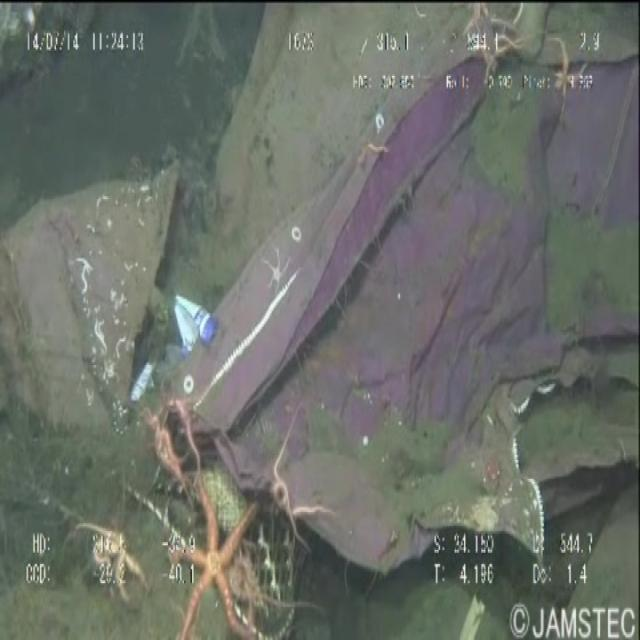Accessories: (177, 0, 635, 571)
Litter: (151, 260, 218, 362)
